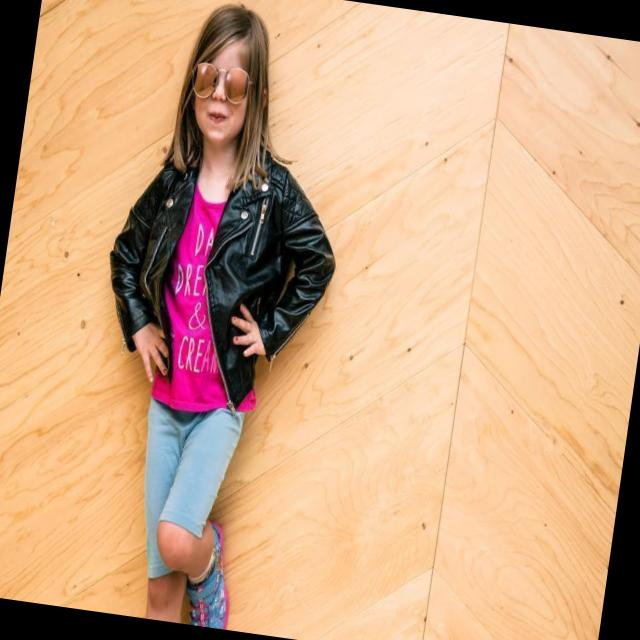Jacket: (82, 129, 358, 428)
